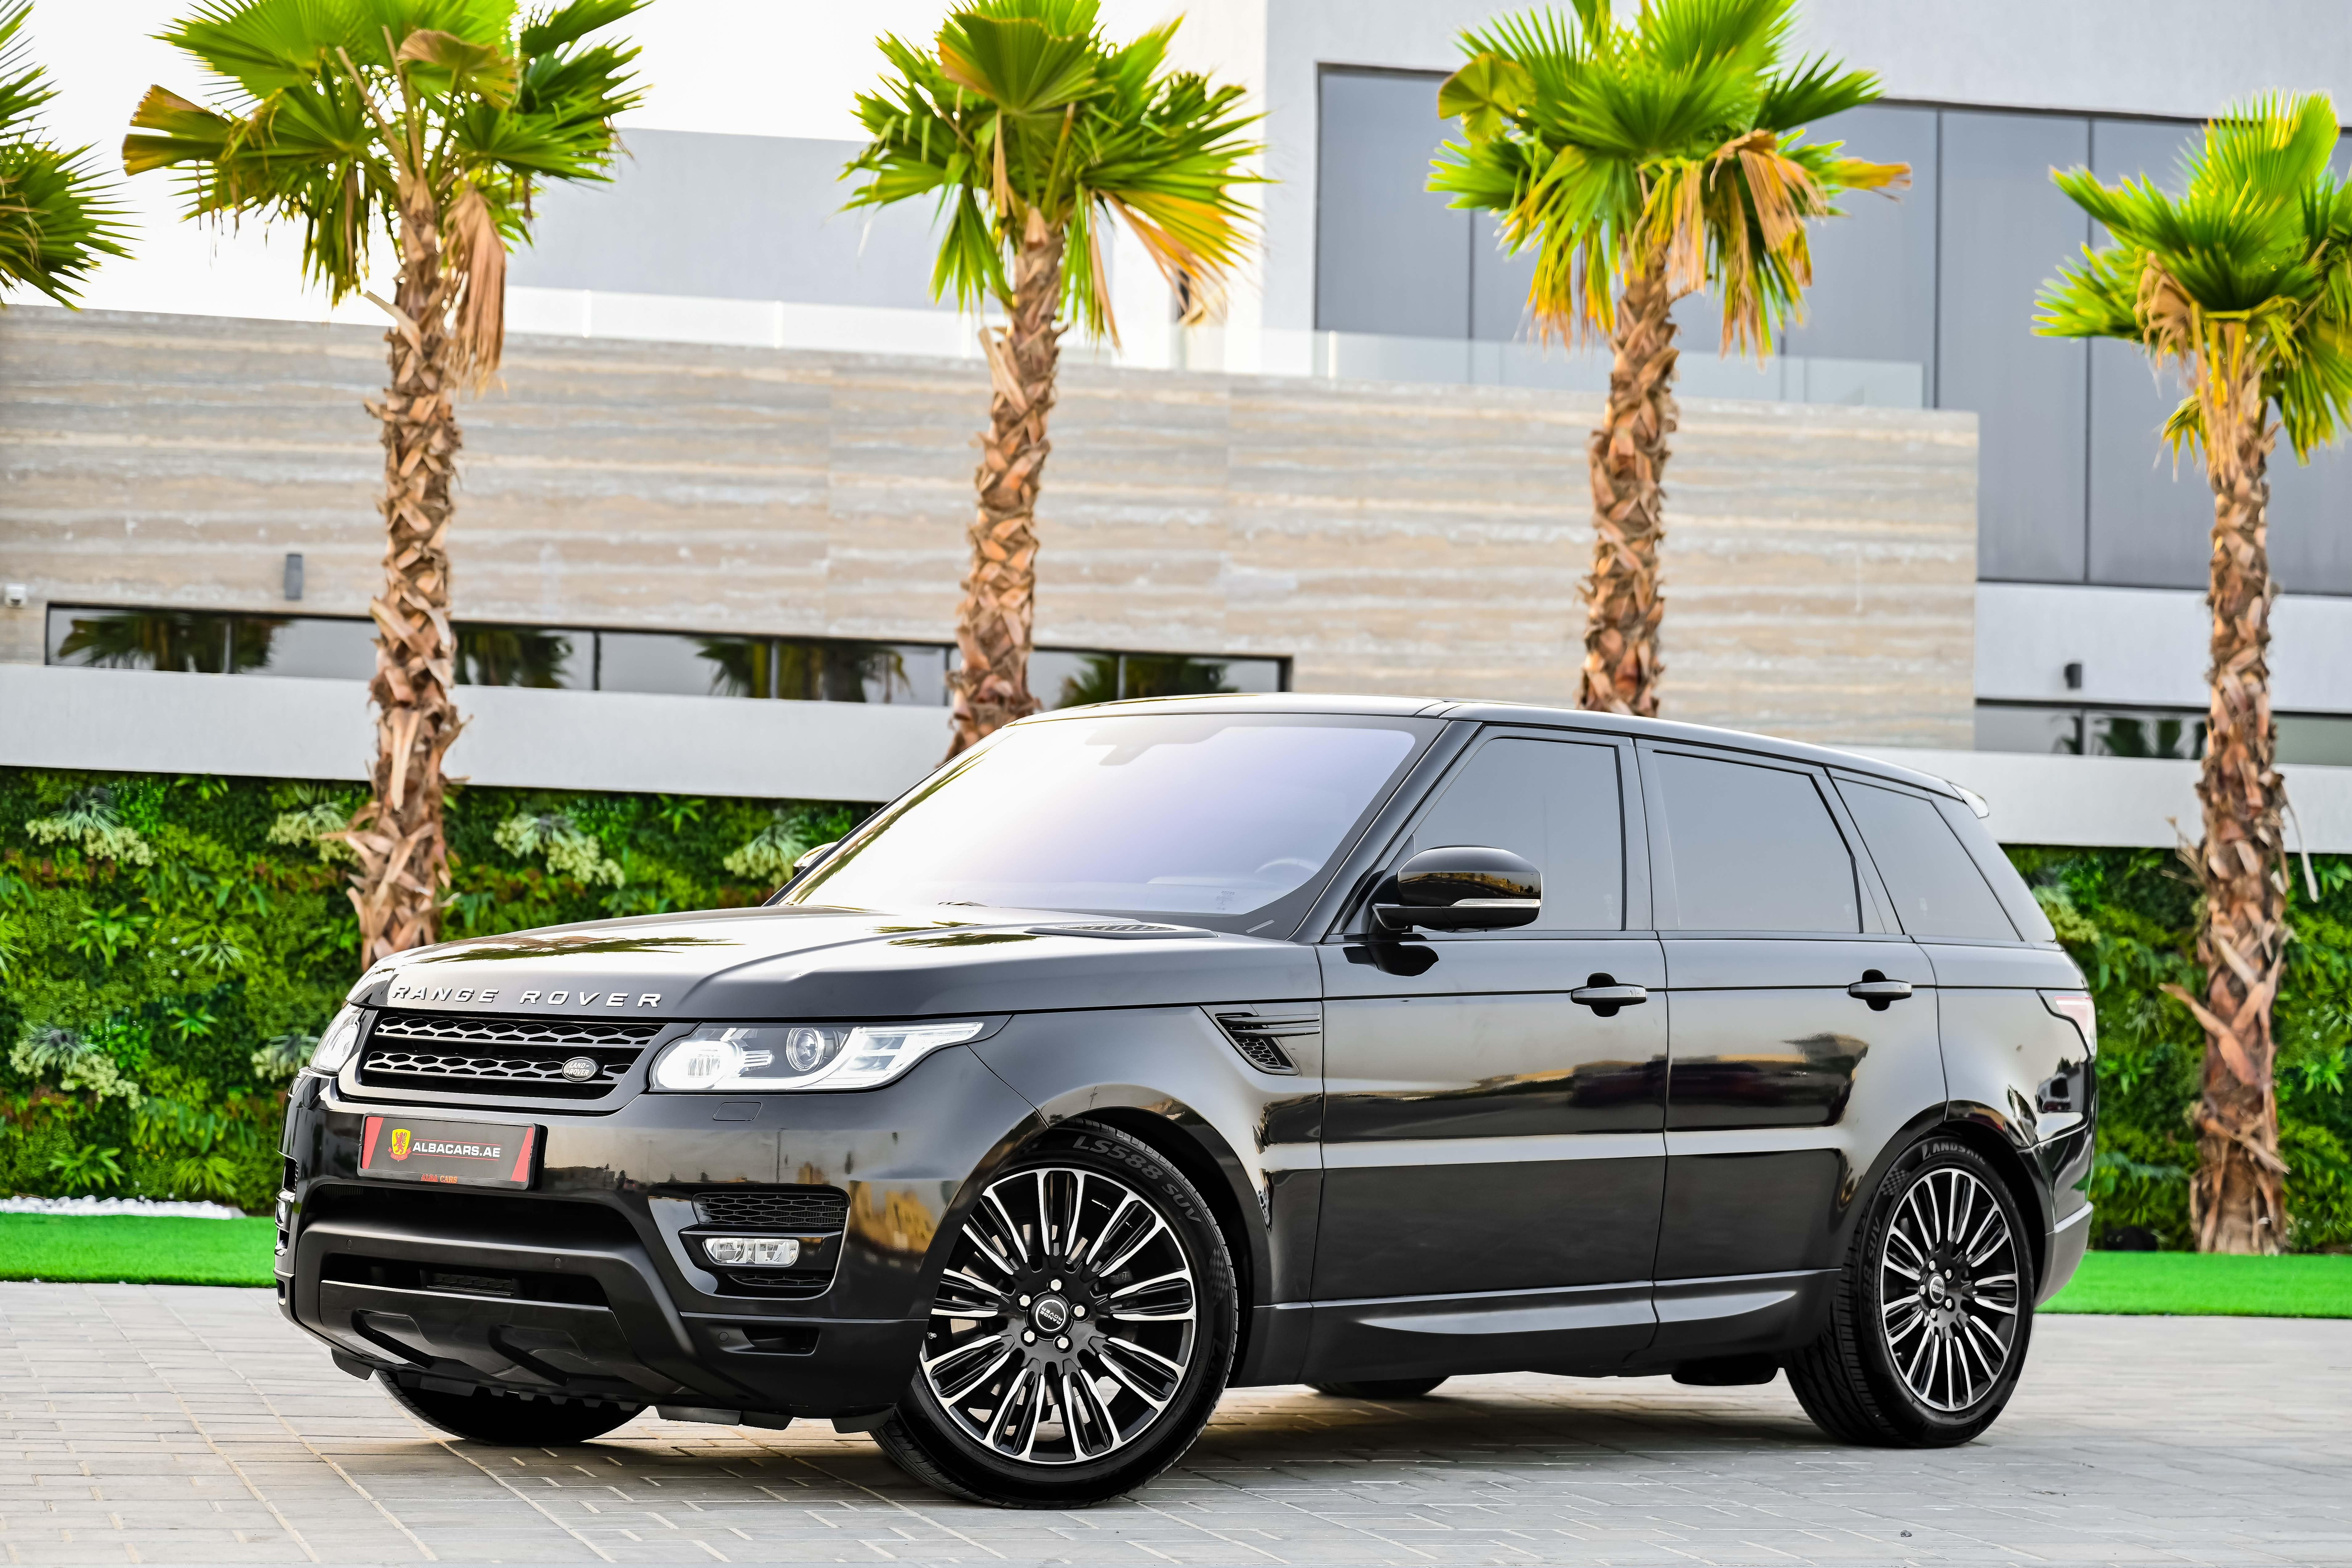range rover: (375, 966, 690, 1024)
